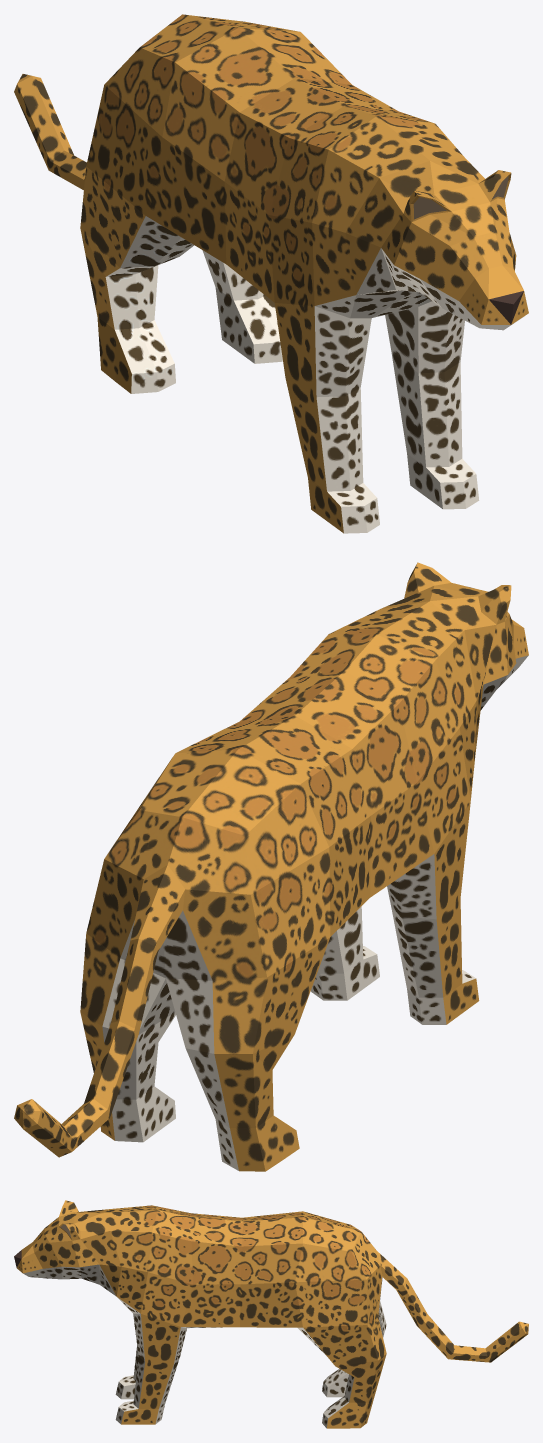
Rendered from Model_Jaguar.fbx.
3 views of the same model, one above another, from view 1: azimuth 30°, elevation 25°; view 2: azimuth 150°, elevation 25°; view 3: azimuth 270°, elevation 25° (orthographic). The views are drawn at different scales.
Parts seen in each view (by area): view 1: Jaguar; view 2: Jaguar; view 3: Jaguar.
Boxes of the visible parts, x1,y1,x2,y2 form: Jaguar: [14, 14, 528, 533]; Jaguar: [14, 562, 528, 1171]; Jaguar: [14, 1200, 528, 1428].
Bounding box in the file's own units: 69.32 × 135 × 319.
1 material, 1 textured.
